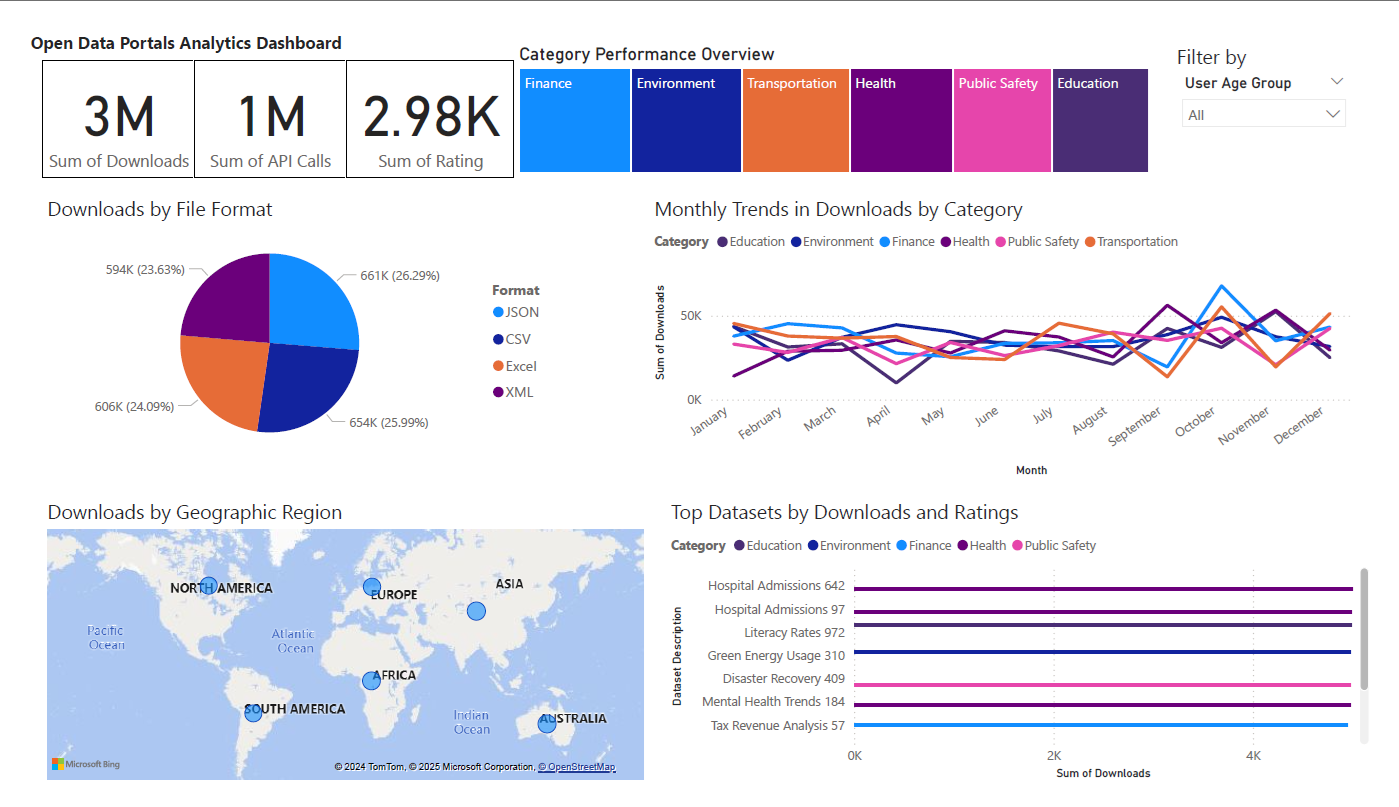

This screenshot's page, from the dashboard's own definition file:
{"tool":"powerbi","page":{"name":"Page 1","canvas":[1280,720],"ordinal":0},"visuals":[{"type":"card","title":"Total Downloads Across Datasets","fields":{"Values":["Sum(Open_Data_Portals_Dataset_Descriptive_with_ID.Downloads)"]},"box":[16,32,144,112],"z":0},{"type":"card","fields":{"Values":["Sum(Open_Data_Portals_Dataset_Descriptive_with_ID.API Calls)"]},"box":[160,32,144,112],"z":1000},{"type":"card","fields":{"Values":["Sum(Open_Data_Portals_Dataset_Descriptive_with_ID.Rating)"]},"box":[304,32,160,112],"z":2000},{"type":"pieChart","title":"Downloads by File Format","fields":{"Category":["Open_Data_Portals_Dataset_Descriptive_with_ID.Format"],"Y":["Sum(Open_Data_Portals_Dataset_Descriptive_with_ID.Downloads)"]},"box":[16,160,496,256],"z":3000},{"type":"clusteredBarChart","title":"Top Datasets by Downloads and Ratings","fields":{"Category":["Open_Data_Portals_Dataset_Descriptive_with_ID.Dataset Description"],"Y":["Sum(Open_Data_Portals_Dataset_Descriptive_with_ID.Downloads)"],"Series":["Open_Data_Portals_Dataset_Descriptive_with_ID.Category"]},"box":[608,448,672,272],"z":4000},{"type":"lineChart","title":"Monthly Trends in Downloads by Category","fields":{"Category":["Open_Data_Portals_Dataset_Descriptive_with_ID.Timestamp.Variation.Date Hierarchy.Month"],"Y":["Sum(Open_Data_Portals_Dataset_Descriptive_with_ID.Downloads)"],"Series":["Open_Data_Portals_Dataset_Descriptive_with_ID.Category"]},"box":[592,160,672,272],"z":5000},{"type":"textbox","box":[0,0,336,32],"z":6000},{"type":"map","title":"Downloads by Geographic Region","fields":{"Category":["Open_Data_Portals_Dataset_Descriptive_with_ID.User Region"],"Size":["Sum(Open_Data_Portals_Dataset_Descriptive_with_ID.Downloads)"]},"box":[16,448,576,272],"z":7000},{"type":"slicer","title":"Filter by","fields":{"Values":["Open_Data_Portals_Dataset_Descriptive_with_ID.User Age Group"]},"box":[1088,16,176,96],"z":8000},{"type":"treemap","title":"Category Performance Overview","fields":{"Group":["Open_Data_Portals_Dataset_Descriptive_with_ID.Category"],"Values":["Sum(Open_Data_Portals_Dataset_Descriptive_with_ID.Downloads)"]},"box":[464,16,608,128],"z":9000}]}

Visuals, with their boxes in screenshot pixels (x1, y1, x2, y2), scaled from the page's 1280x720 canvas onto the 1399x807 screenshot:
"Total Downloads Across Datasets" card: x1=17, y1=36, x2=175, y2=161
card - Sum(Open_Data_Portals_Dataset_Descriptive_with_ID.API Calls): x1=175, y1=36, x2=332, y2=161
card - Sum(Open_Data_Portals_Dataset_Descriptive_with_ID.Rating): x1=332, y1=36, x2=507, y2=161
"Downloads by File Format" pieChart: x1=17, y1=179, x2=560, y2=466
"Top Datasets by Downloads and Ratings" clusteredBarChart: x1=665, y1=502, x2=1398, y2=806
"Monthly Trends in Downloads by Category" lineChart: x1=647, y1=179, x2=1382, y2=484
textbox: x1=0, y1=0, x2=367, y2=36
"Downloads by Geographic Region" map: x1=17, y1=502, x2=647, y2=806
"Filter by" slicer: x1=1189, y1=18, x2=1382, y2=126
"Category Performance Overview" treemap: x1=507, y1=18, x2=1172, y2=161
